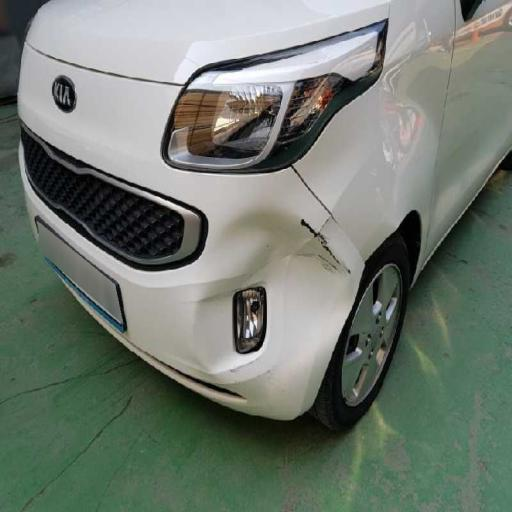broken: (280, 175, 358, 306)
dent: (157, 190, 282, 381)
